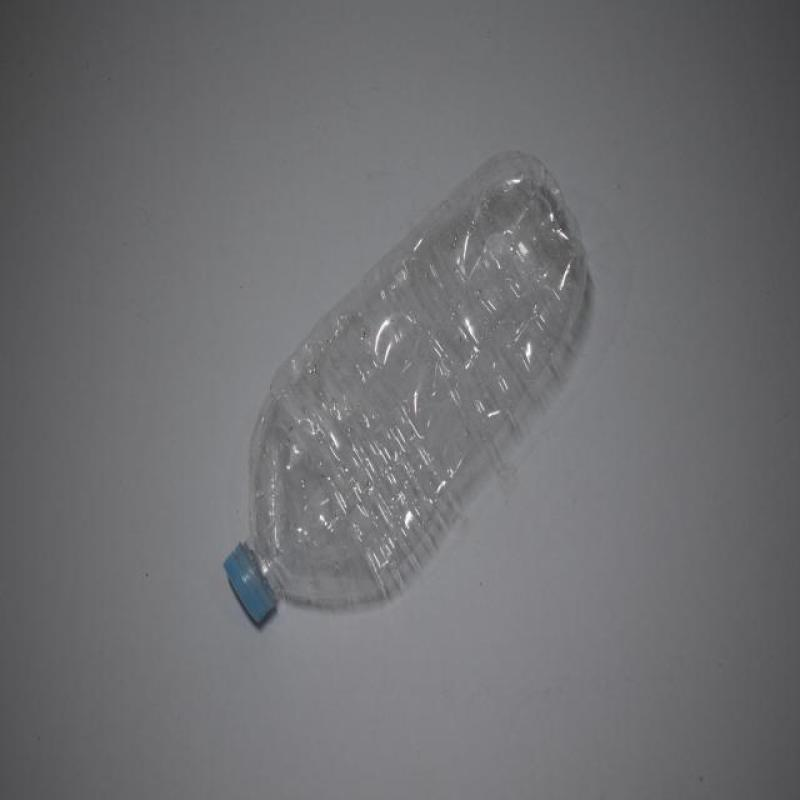botella: (222, 147, 590, 627)
